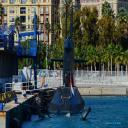submarine: (49, 1, 94, 122)
